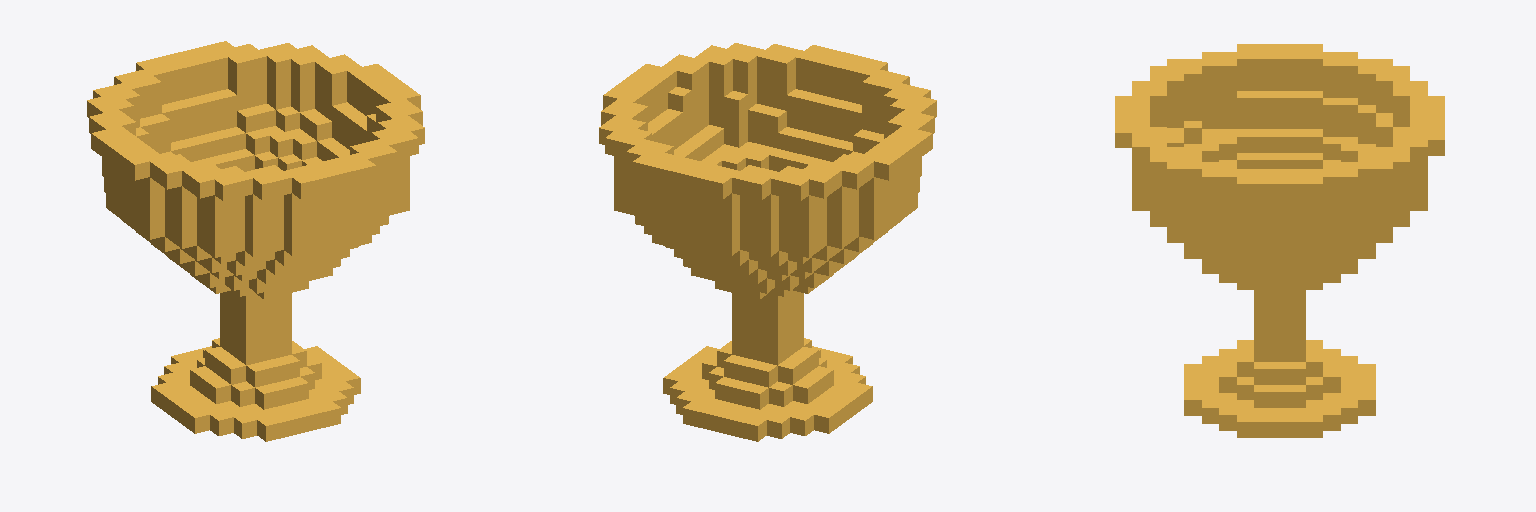
3 views of the same model, side by side, from view 1: azimuth 30°, elevation 25°; view 2: azimuth 150°, elevation 25°; view 3: azimuth 270°, elevation 25° (orthographic).
Visible parts, largest first — view 1: object 1; view 2: object 1; view 3: object 1.
Boxes of the visible parts, box(x1,y1,x2,y2) form: object 1: box(87, 41, 424, 441); object 1: box(599, 43, 936, 441); object 1: box(1115, 44, 1444, 437).
Bounding box in the file's own units: 1.9 × 1.8 × 1.9.
Materials: 1 (1 with a texture image).